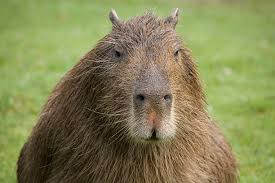capivara: (16, 7, 240, 183)
